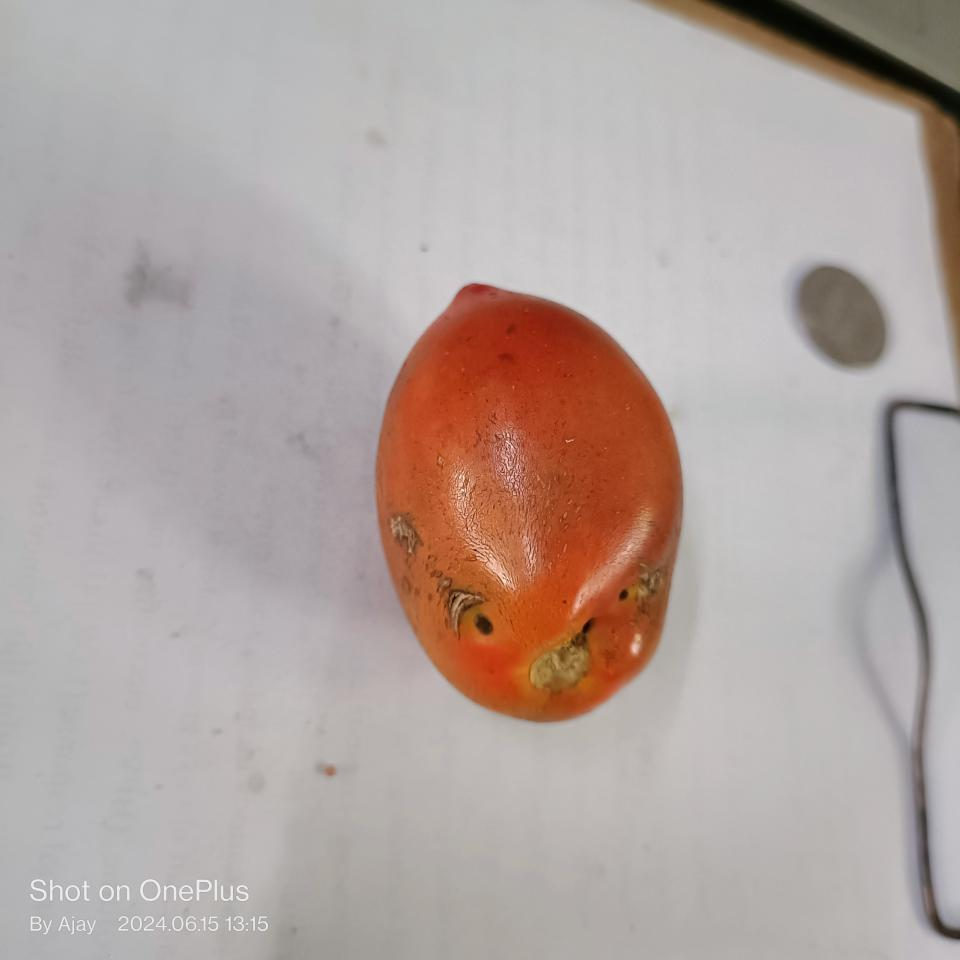Bacterial_Spot: (430, 567, 494, 638), (389, 515, 421, 553), (574, 617, 600, 645), (619, 587, 629, 602)
